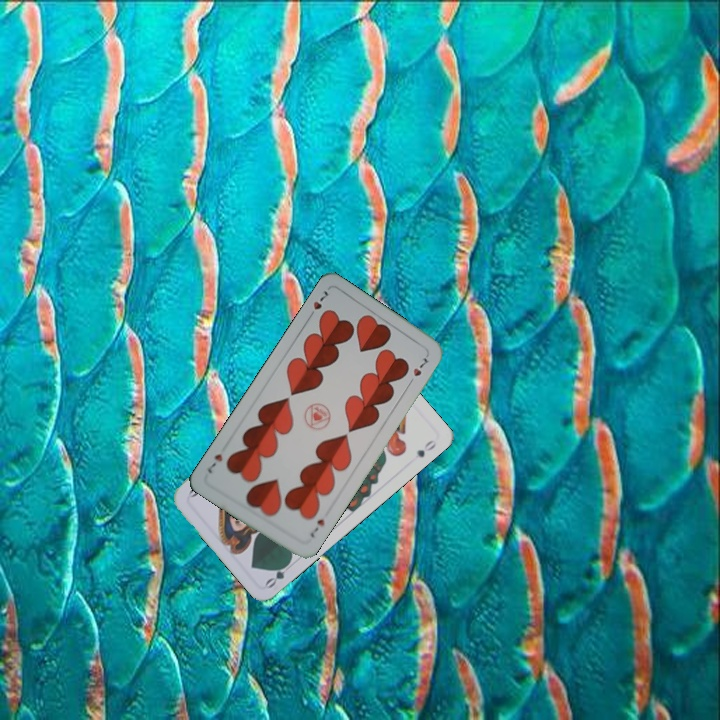GO: (261, 556, 294, 591)
H7: (304, 286, 331, 322), (306, 515, 327, 540)
